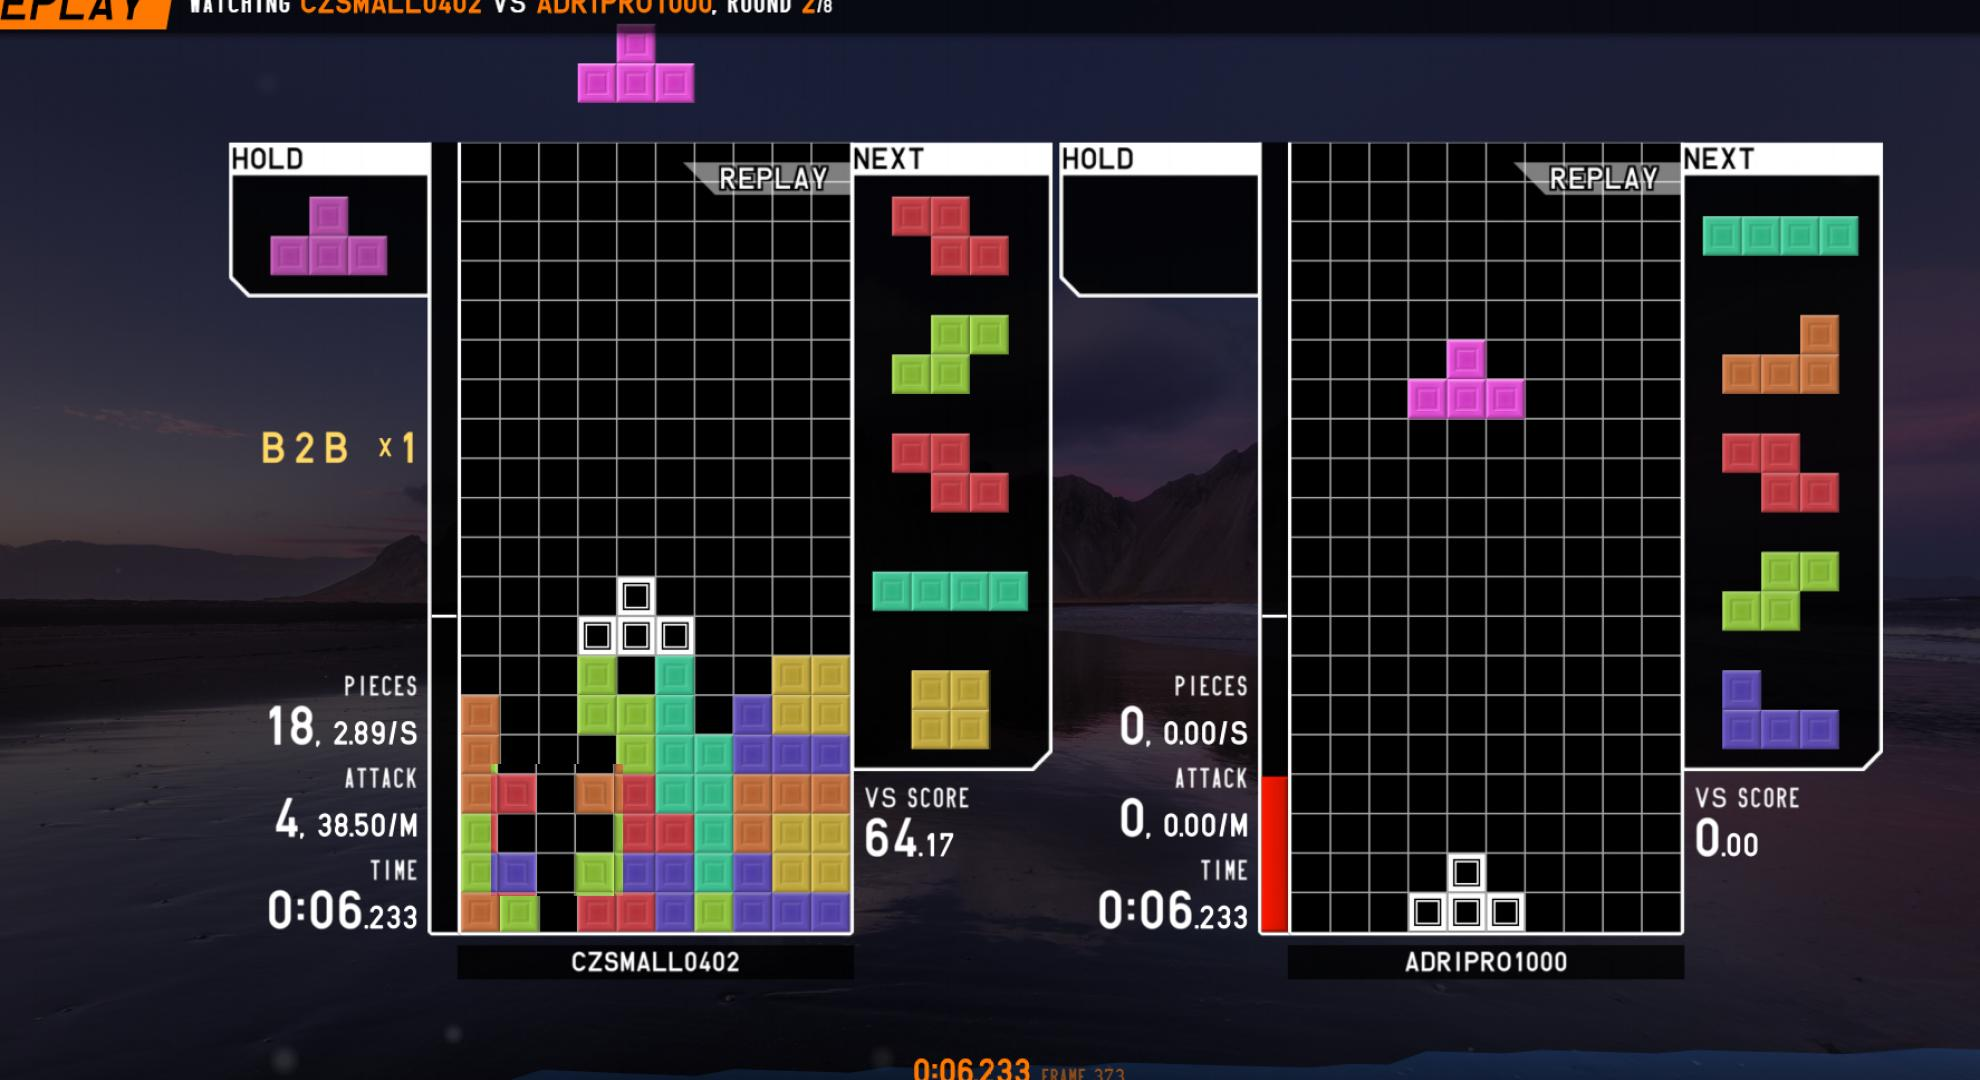tspin: (491, 763, 624, 896), (497, 693, 624, 817)
